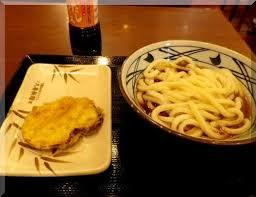bukkake: (124, 43, 256, 142)
satumaimo: (23, 96, 104, 150)
